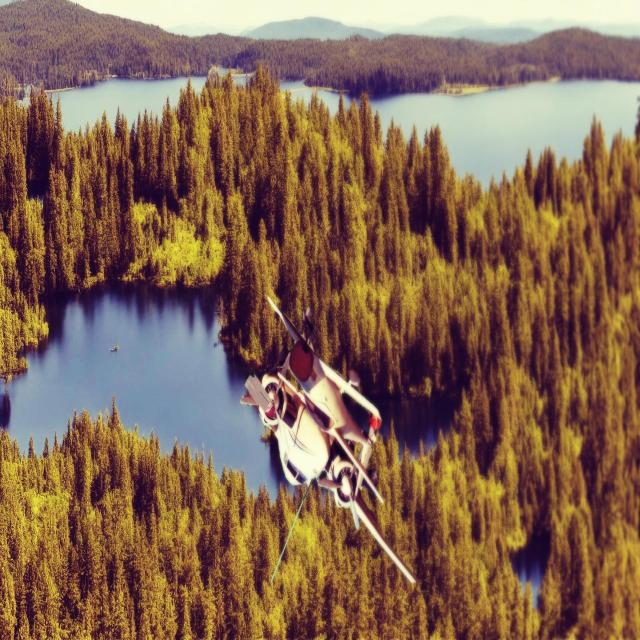airplane: (240, 294, 417, 585)
